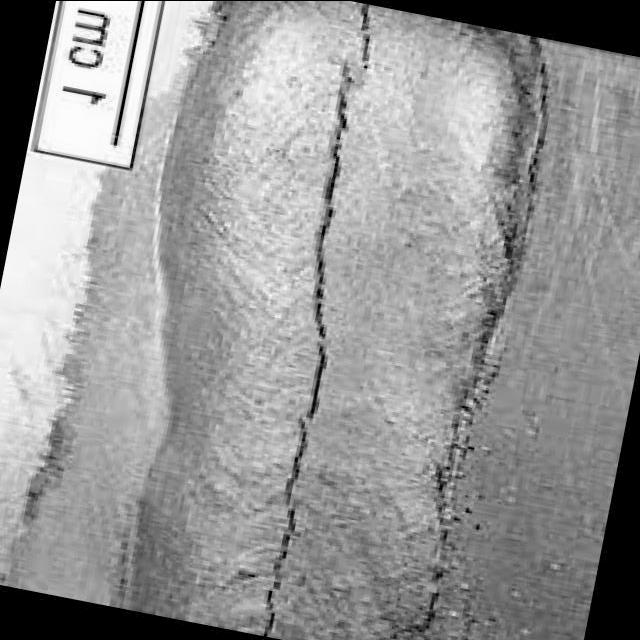defect: (256, 7, 383, 636)
